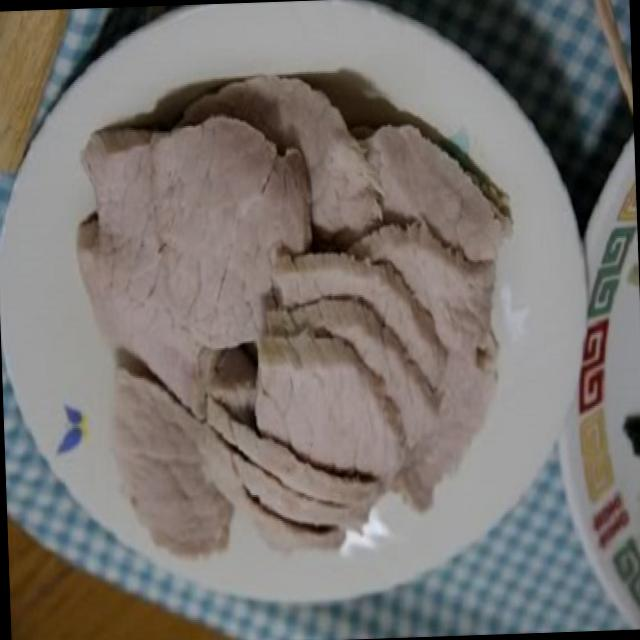thit luoc: (78, 79, 506, 556)
